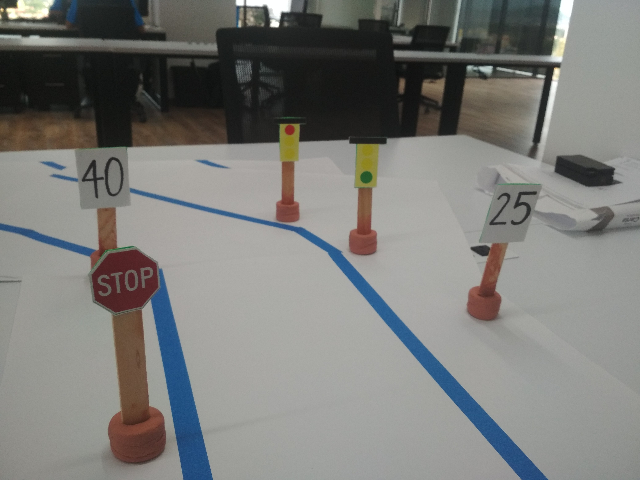Green Traffic Light: (344, 132, 387, 188)
Red Traffic Light: (272, 114, 308, 164)
Speed Limit 25: (478, 179, 544, 245)
Speed Limit 40: (71, 145, 133, 211)
Stop Sign: (86, 247, 159, 313)
